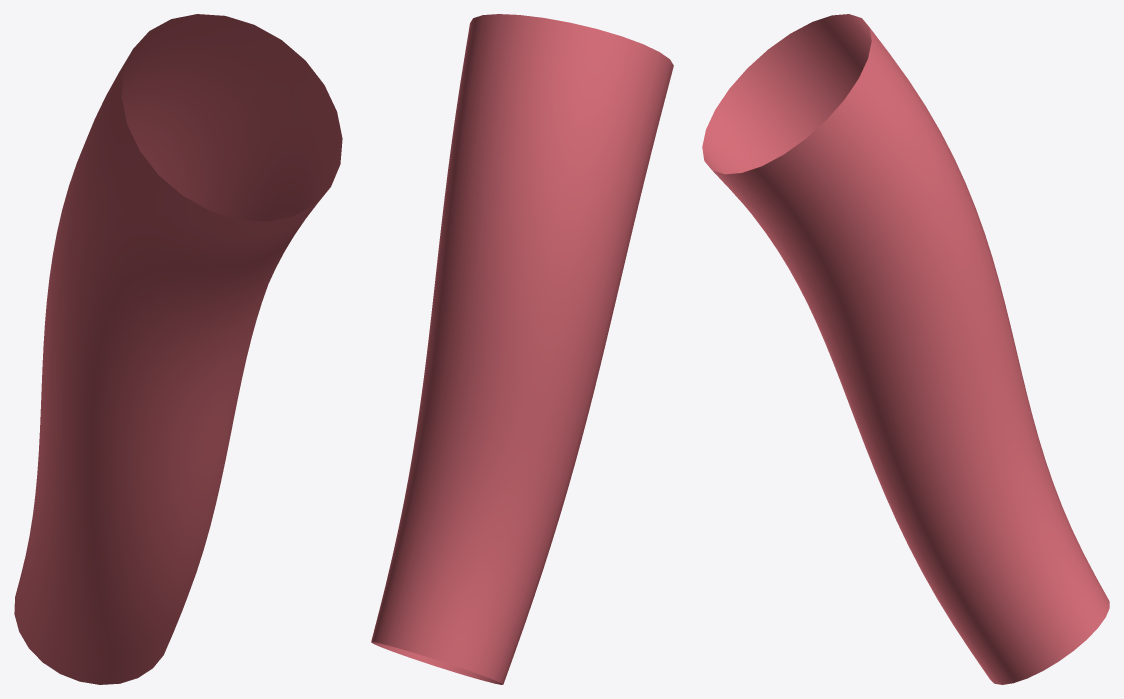
3 views of the same model, side by side, from view 1: azimuth 30°, elevation 25°; view 2: azimuth 150°, elevation 25°; view 3: azimuth 270°, elevation 25° (orthographic). The views are drawn at different scales.
Visible parts, largest first — view 1: ZA_792d8fb015446a3e; view 2: ZA_792d8fb015446a3e; view 3: ZA_792d8fb015446a3e.
Part boxes in pixels (<box>): ZA_792d8fb015446a3e: <box>14,14,342,684</box>; ZA_792d8fb015446a3e: <box>371,14,673,684</box>; ZA_792d8fb015446a3e: <box>702,14,1109,684</box>.
Bounding box in the file's own units: 0.00579 × 0.0188 × 0.0109.
